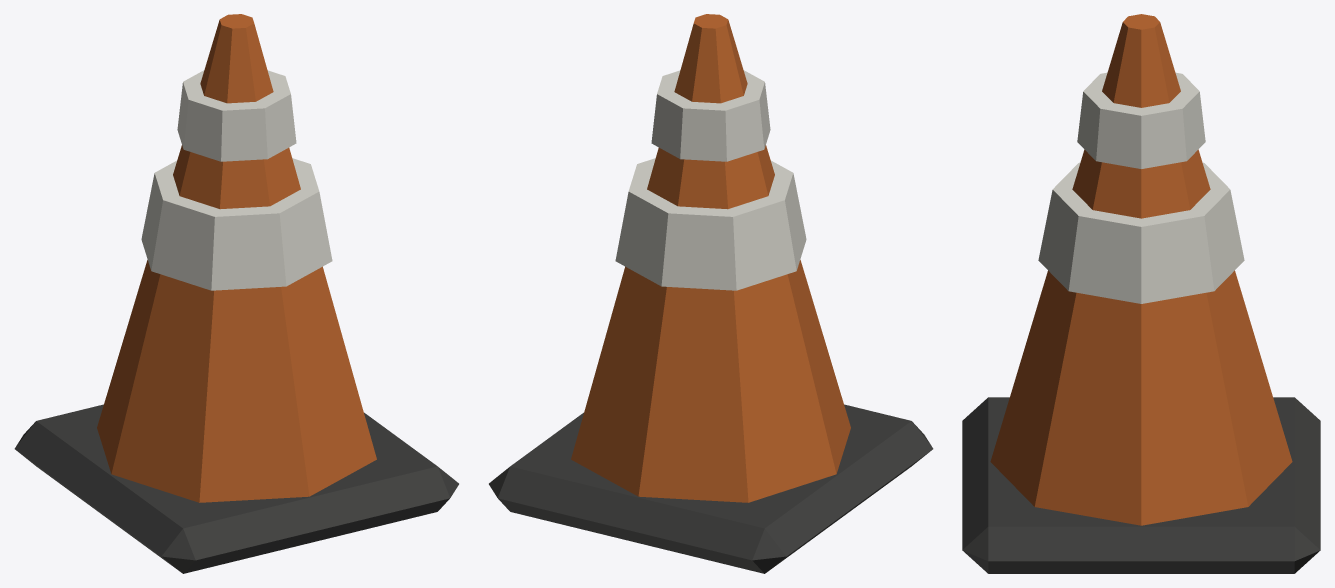
The model's file is route77_traffic_cone.glb.
The picture shows the model from 3 angles, left to right: view 1: azimuth 30°, elevation 25°; view 2: azimuth 150°, elevation 25°; view 3: azimuth 270°, elevation 25°; orthographic projection. The views are drawn at different scales.
Parts seen in each view (by area): view 1: Molded cone body, Square rubber base, Reflective collar, Reflective upper collar; view 2: Molded cone body, Square rubber base, Reflective collar, Reflective upper collar; view 3: Molded cone body, Square rubber base, Reflective collar, Reflective upper collar.
Boxes of the visible parts, x1,y1,x2,y2 form: Molded cone body: (97, 14, 376, 502); Square rubber base: (14, 404, 458, 573); Reflective collar: (141, 158, 332, 290); Reflective upper collar: (177, 70, 296, 161); Molded cone body: (571, 14, 850, 502); Square rubber base: (489, 404, 933, 573); Reflective collar: (615, 158, 806, 290); Reflective upper collar: (651, 70, 770, 161); Molded cone body: (990, 14, 1292, 525); Square rubber base: (962, 397, 1320, 573); Reflective collar: (1038, 162, 1244, 303); Reflective upper collar: (1077, 72, 1205, 168).
Bounding box in the file's own units: 0.48 × 0.72 × 0.48.
